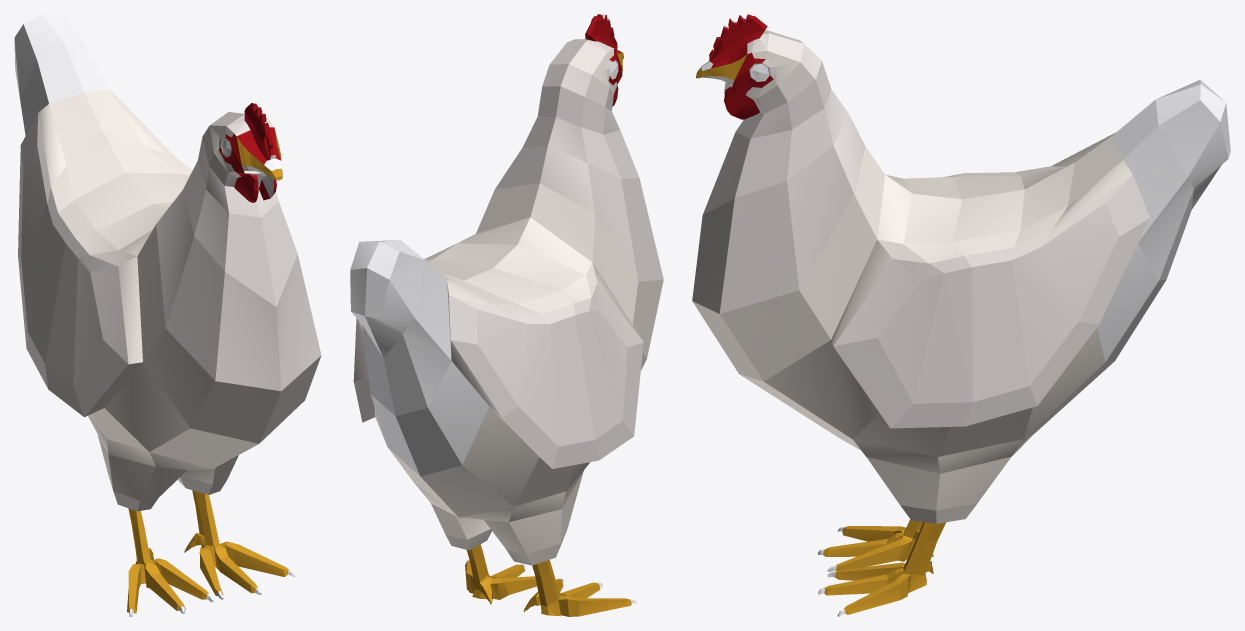
The model's file is Hen.fbx.
The picture shows the model from 3 angles, left to right: view 1: azimuth 30°, elevation 25°; view 2: azimuth 150°, elevation 25°; view 3: azimuth 270°, elevation 25°; orthographic projection. The views are drawn at different scales.
Parts seen in each view (by area): view 1: Hen; view 2: Hen; view 3: Hen.
Boxes of the visible parts, box(x1,y1,x2,y2) form: Hen: box(14, 14, 321, 616); Hen: box(350, 14, 663, 616); Hen: box(692, 14, 1230, 616).
Size of the model in its own units: 107 by 256 by 223.
